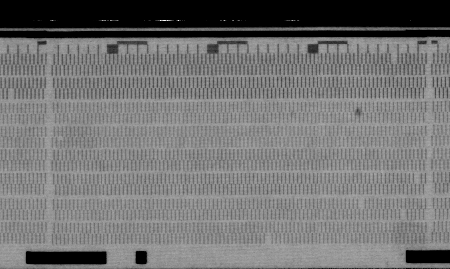Broken hole: (263, 232, 276, 246), (356, 195, 368, 210), (398, 208, 410, 222), (6, 87, 17, 101), (412, 173, 423, 186), (389, 53, 400, 65)
Oblique printing: (55, 136, 67, 151)
